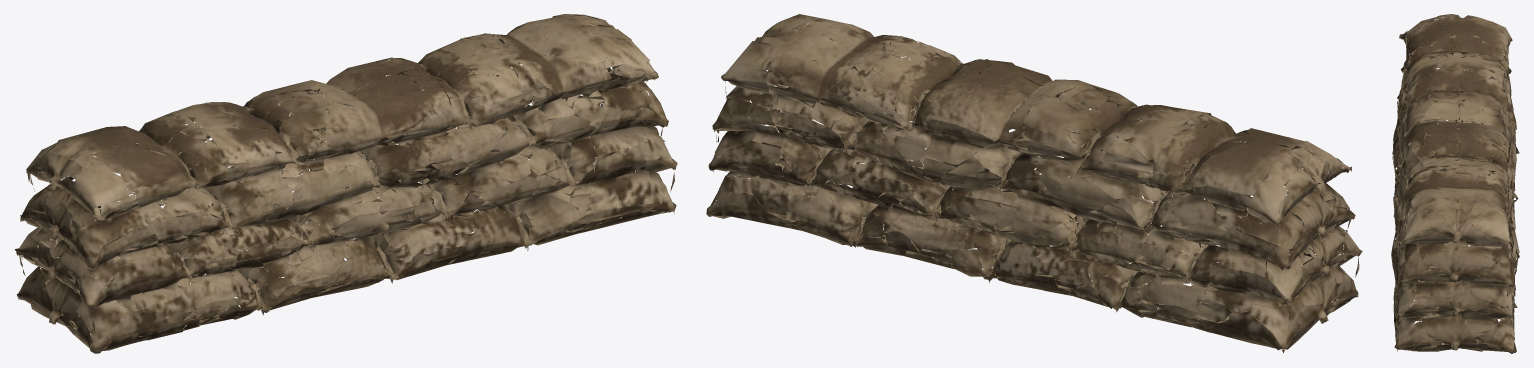
The model's file is sandbag-wall.glb.
3 views of the same model, side by side, from view 1: azimuth 30°, elevation 25°; view 2: azimuth 150°, elevation 25°; view 3: azimuth 270°, elevation 25° (orthographic). The views are drawn at different scales.
Visible parts, largest first — view 1: Mesh_0; view 2: Mesh_0; view 3: Mesh_0.
Part boxes in pixels (x1,y1,x2,y2): Mesh_0: (15,14,677,353); Mesh_0: (706,14,1362,353); Mesh_0: (1391,14,1519,353).
Bounding box in the file's own units: 1.9 × 0.5485 × 0.4623.
1 material, 1 textured.
